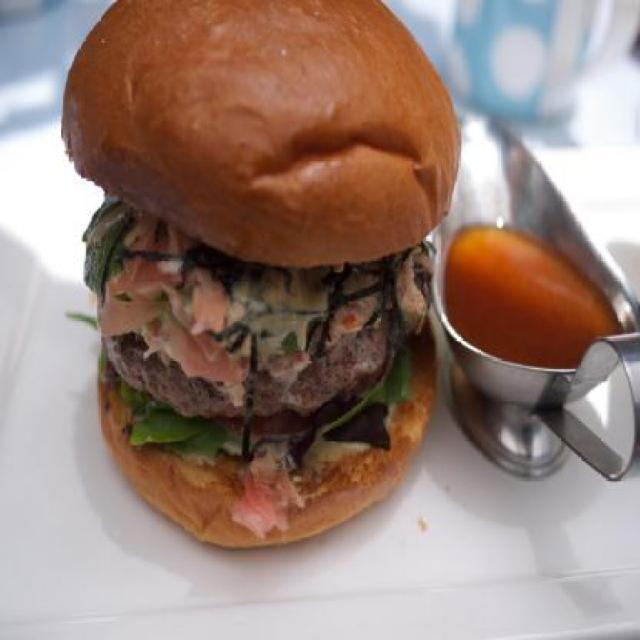Hamburger: (59, 0, 460, 552)
